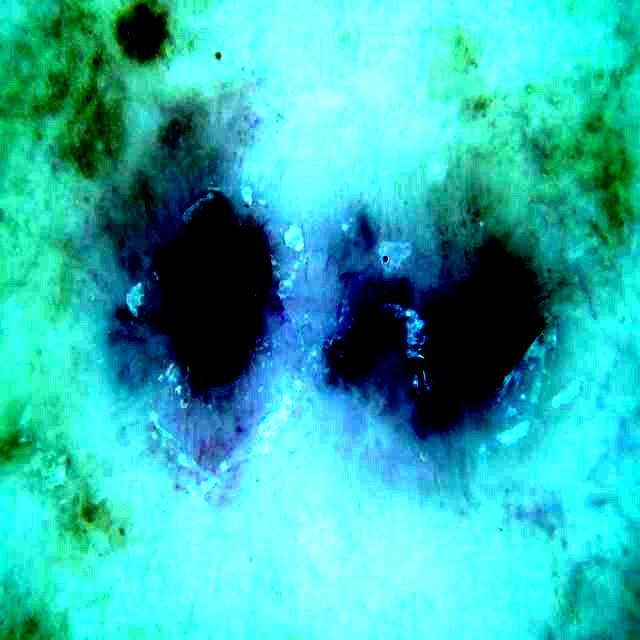BCC: (325, 213, 521, 433), (160, 188, 271, 383)
